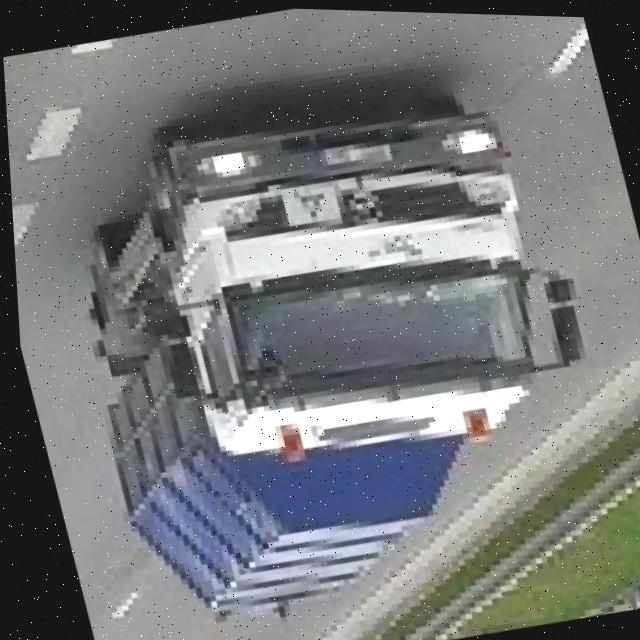truck: (27, 46, 640, 640)
